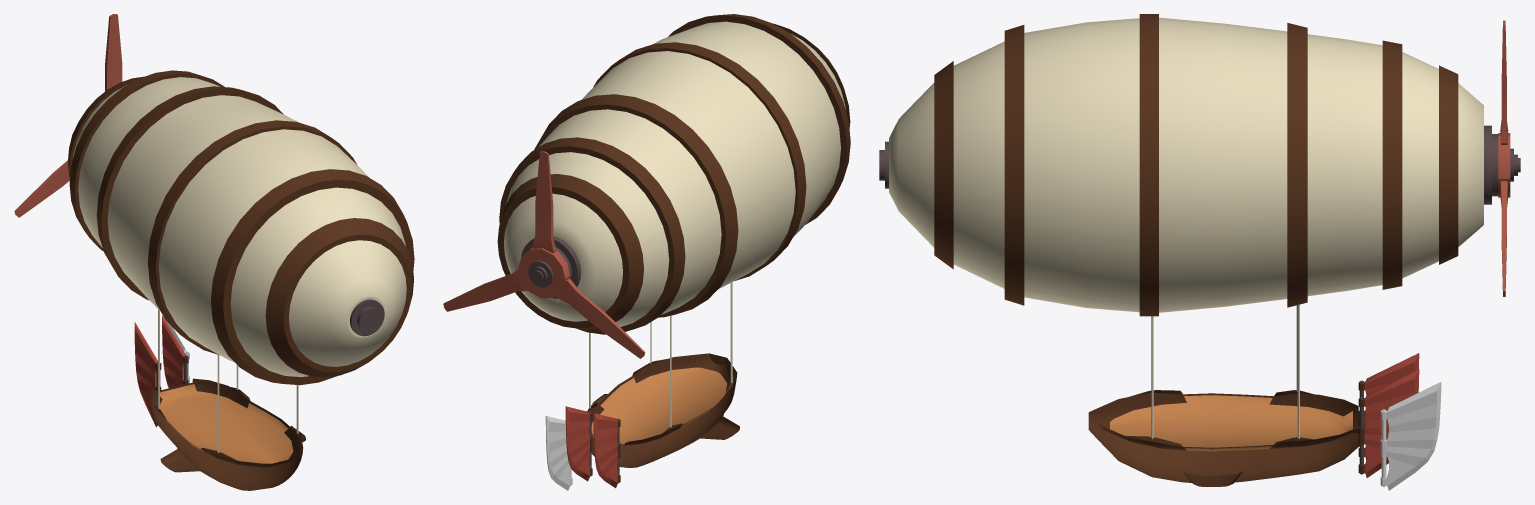
Rendered from Airship.fbx.
The picture shows the model from 3 angles, left to right: view 1: azimuth 30°, elevation 25°; view 2: azimuth 150°, elevation 25°; view 3: azimuth 270°, elevation 25°; orthographic projection. The views are drawn at different scales.
Visible parts, largest first — view 1: Balloon, Ship, Propeller, Fin2, Fin1; view 2: Balloon, Ship, Propeller, Fin1, Fin2, Fin(Part); view 3: Balloon, Ship, Fin(Part), Fin1, Propeller, Fin2.
Boxes of the visible parts, x1,y1,x2,y2 form: Balloon: (68, 70, 414, 385); Ship: (149, 309, 305, 490); Propeller: (14, 14, 122, 217); Fin2: (134, 322, 161, 427); Fin1: (162, 315, 188, 388); Balloon: (497, 14, 850, 334); Ship: (587, 282, 739, 467); Propeller: (443, 151, 645, 358); Fin1: (565, 406, 592, 481); Fin2: (593, 413, 620, 488); Fin(Part): (545, 416, 570, 490); Balloon: (879, 14, 1520, 316); Ship: (1088, 304, 1359, 486); Fin(Part): (1386, 382, 1441, 490); Fin1: (1358, 369, 1419, 477); Propeller: (1498, 20, 1510, 296); Fin2: (1358, 353, 1419, 459).
Size of the model in its own units: 2220 by 3694 by 4700.
